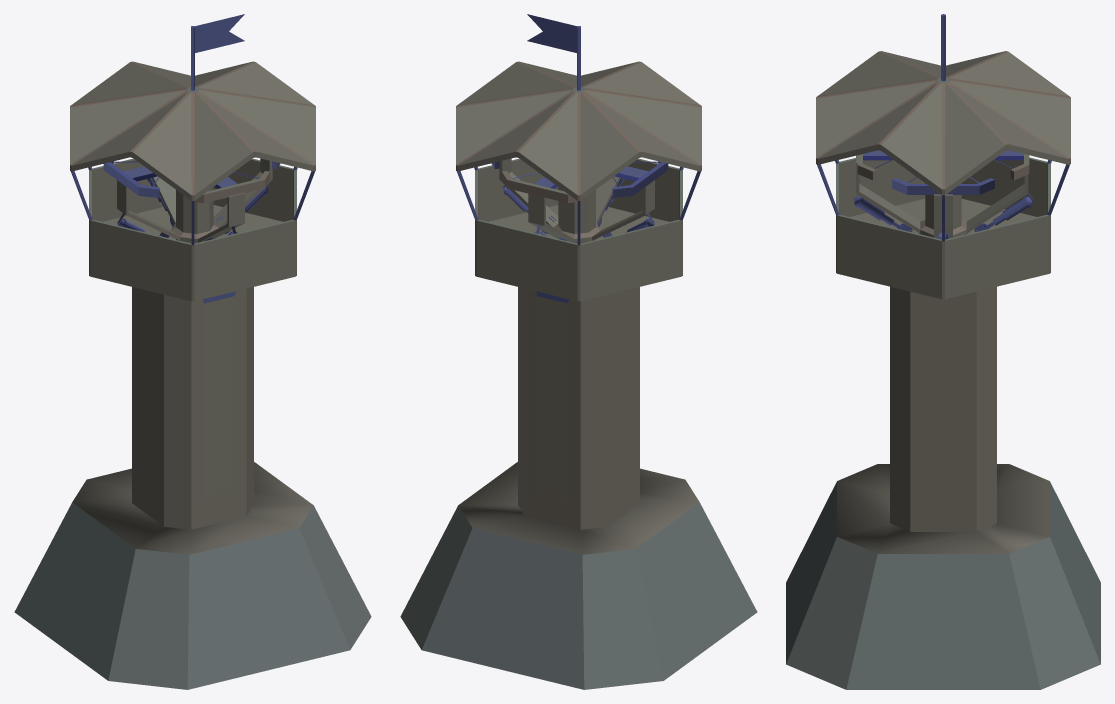
Rendered from GuardTower.fbx.
3 renders of one model, left to right at view 1: azimuth 30°, elevation 25°; view 2: azimuth 150°, elevation 25°; view 3: azimuth 270°, elevation 25°, orthographic. The views are drawn at different scales.
Visible parts, largest first — view 1: Mesh; view 2: Mesh; view 3: Mesh.
Part boxes in pixels (box(x1,y1,x2,y2)): Mesh: box(14, 14, 371, 689); Mesh: box(400, 14, 757, 689); Mesh: box(786, 14, 1100, 689).
Bounding box in the file's own units: 19544 × 41687 × 19544.
